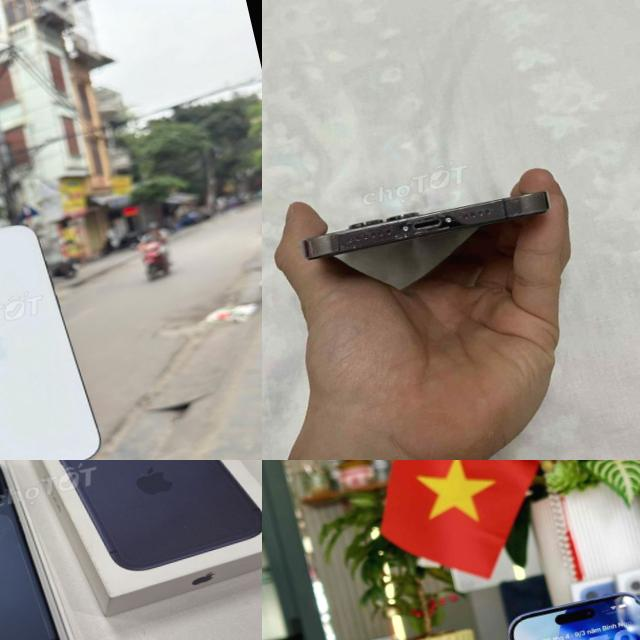scratch: (482, 188, 550, 228), (389, 214, 458, 244), (320, 222, 376, 255)
